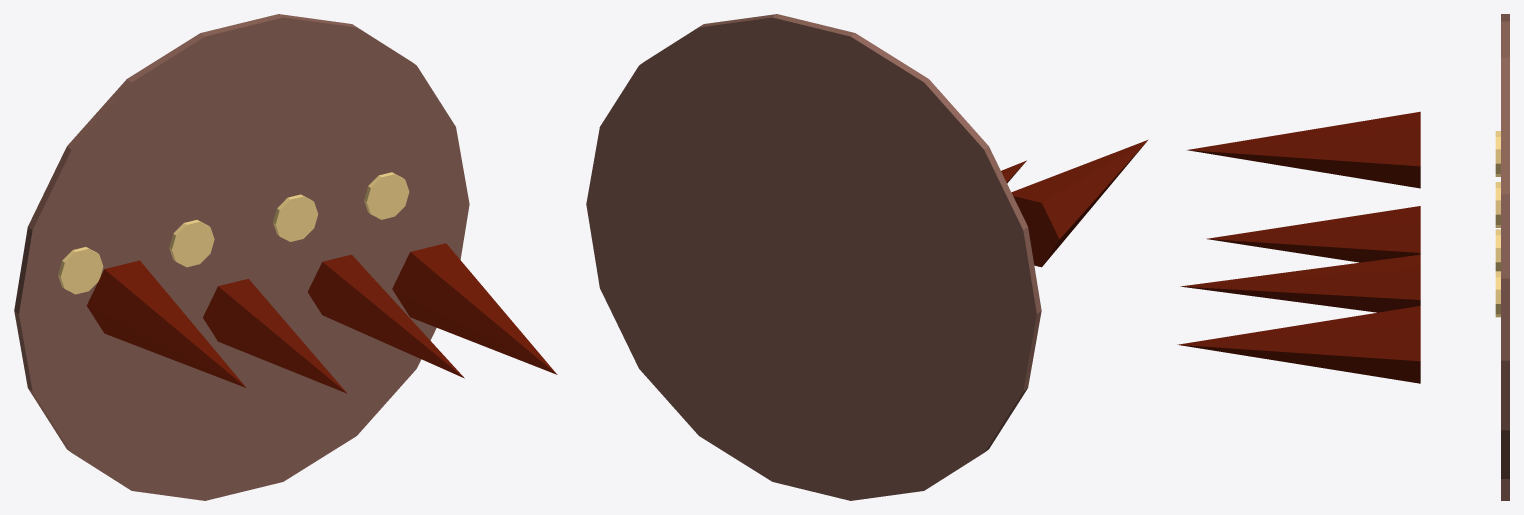
Rendered from 02_display_prop_cluster.glb.
3 views of the same model, side by side, from view 1: azimuth 30°, elevation 25°; view 2: azimuth 150°, elevation 25°; view 3: azimuth 270°, elevation 25° (orthographic). The views are drawn at different scales.
Parts seen in each view (by area): view 1: scatter_base, basalt_shard_3, basalt_shard_0, basalt_shard_2, basalt_shard_1, lava_glow_3, lava_glow_1, lava_glow_0, lava_glow_2; view 2: scatter_base, basalt_shard_0; view 3: basalt_shard_3, basalt_shard_0, basalt_shard_2, basalt_shard_1, scatter_base.
Boxes of the visible parts, x1,y1,x2,y2 form: scatter_base: (14,14,469,500); basalt_shard_3: (392,243,557,374); basalt_shard_0: (86,260,246,387); basalt_shard_2: (308,254,464,378); basalt_shard_1: (203,279,346,393); lava_glow_3: (364,172,409,219); lava_glow_1: (169,220,214,267); lava_glow_0: (58,247,103,294); lava_glow_2: (273,194,318,241); scatter_base: (586,14,1041,500); basalt_shard_0: (1011,139,1148,267); basalt_shard_3: (1177,306,1420,383); basalt_shard_0: (1187,111,1420,188); basalt_shard_2: (1180,254,1420,312); basalt_shard_1: (1206,206,1420,262); scatter_base: (1501,14,1509,500).
Bounding box in the file's own units: 1.9 × 1.87 × 1.29.
